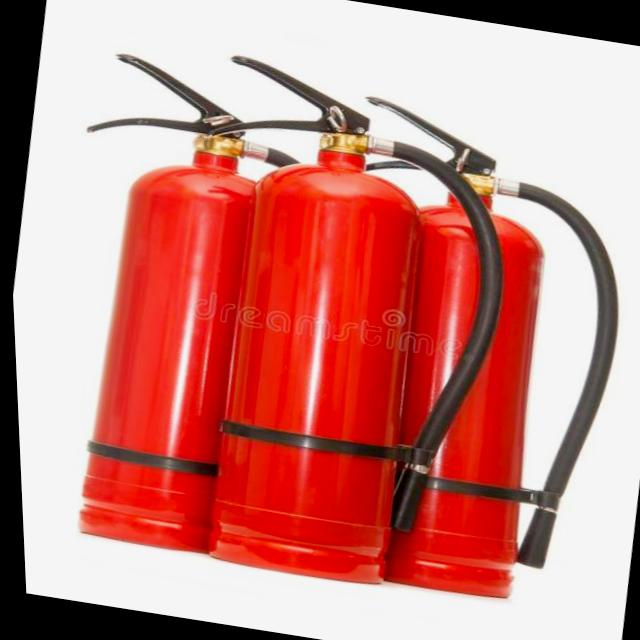FireExtinguisher: (134, 46, 545, 606), (10, 44, 384, 576), (280, 85, 640, 617)
